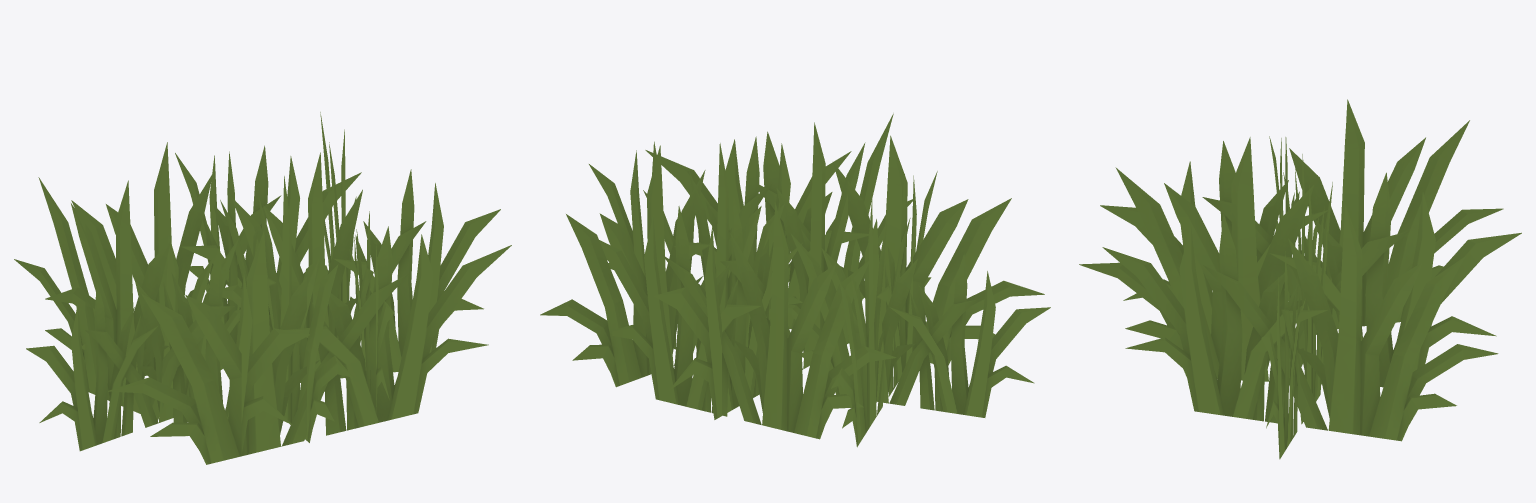
File: SM_Env_Grass_Tall_Clump_02.fbx
The picture shows the model from 3 angles, left to right: view 1: azimuth 30°, elevation 25°; view 2: azimuth 150°, elevation 25°; view 3: azimuth 270°, elevation 25°; orthographic projection.
Visible parts, largest first — view 1: SM_Env_Grass_Tall_Clump_02_LOD0; view 2: SM_Env_Grass_Tall_Clump_02_LOD0; view 3: SM_Env_Grass_Tall_Clump_02_LOD0.
Boxes of the visible parts, x1,y1,x2,y2 form: SM_Env_Grass_Tall_Clump_02_LOD0: (14, 112, 511, 464); SM_Env_Grass_Tall_Clump_02_LOD0: (540, 113, 1050, 447); SM_Env_Grass_Tall_Clump_02_LOD0: (1079, 99, 1521, 459).
Size of what is drawn, in the model's own units: 179 by 107 by 145.
